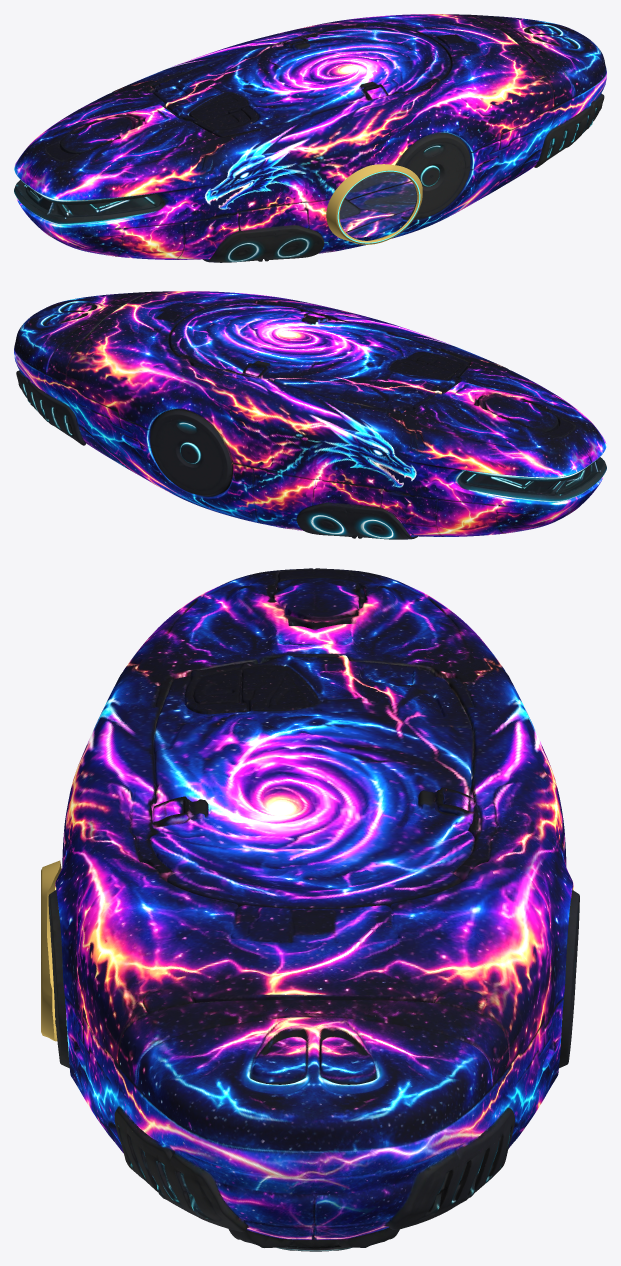
Rendered from starpod_galaxy_v5.glb.
3 renders of one model, top to bottom at view 1: azimuth 30°, elevation 25°; view 2: azimuth 150°, elevation 25°; view 3: azimuth 270°, elevation 25°, orthographic. The views are drawn at different scales.
Size of the model in its own units: 1.9 by 0.4714 by 0.788.
Materials: 2 (2 with a texture image).
